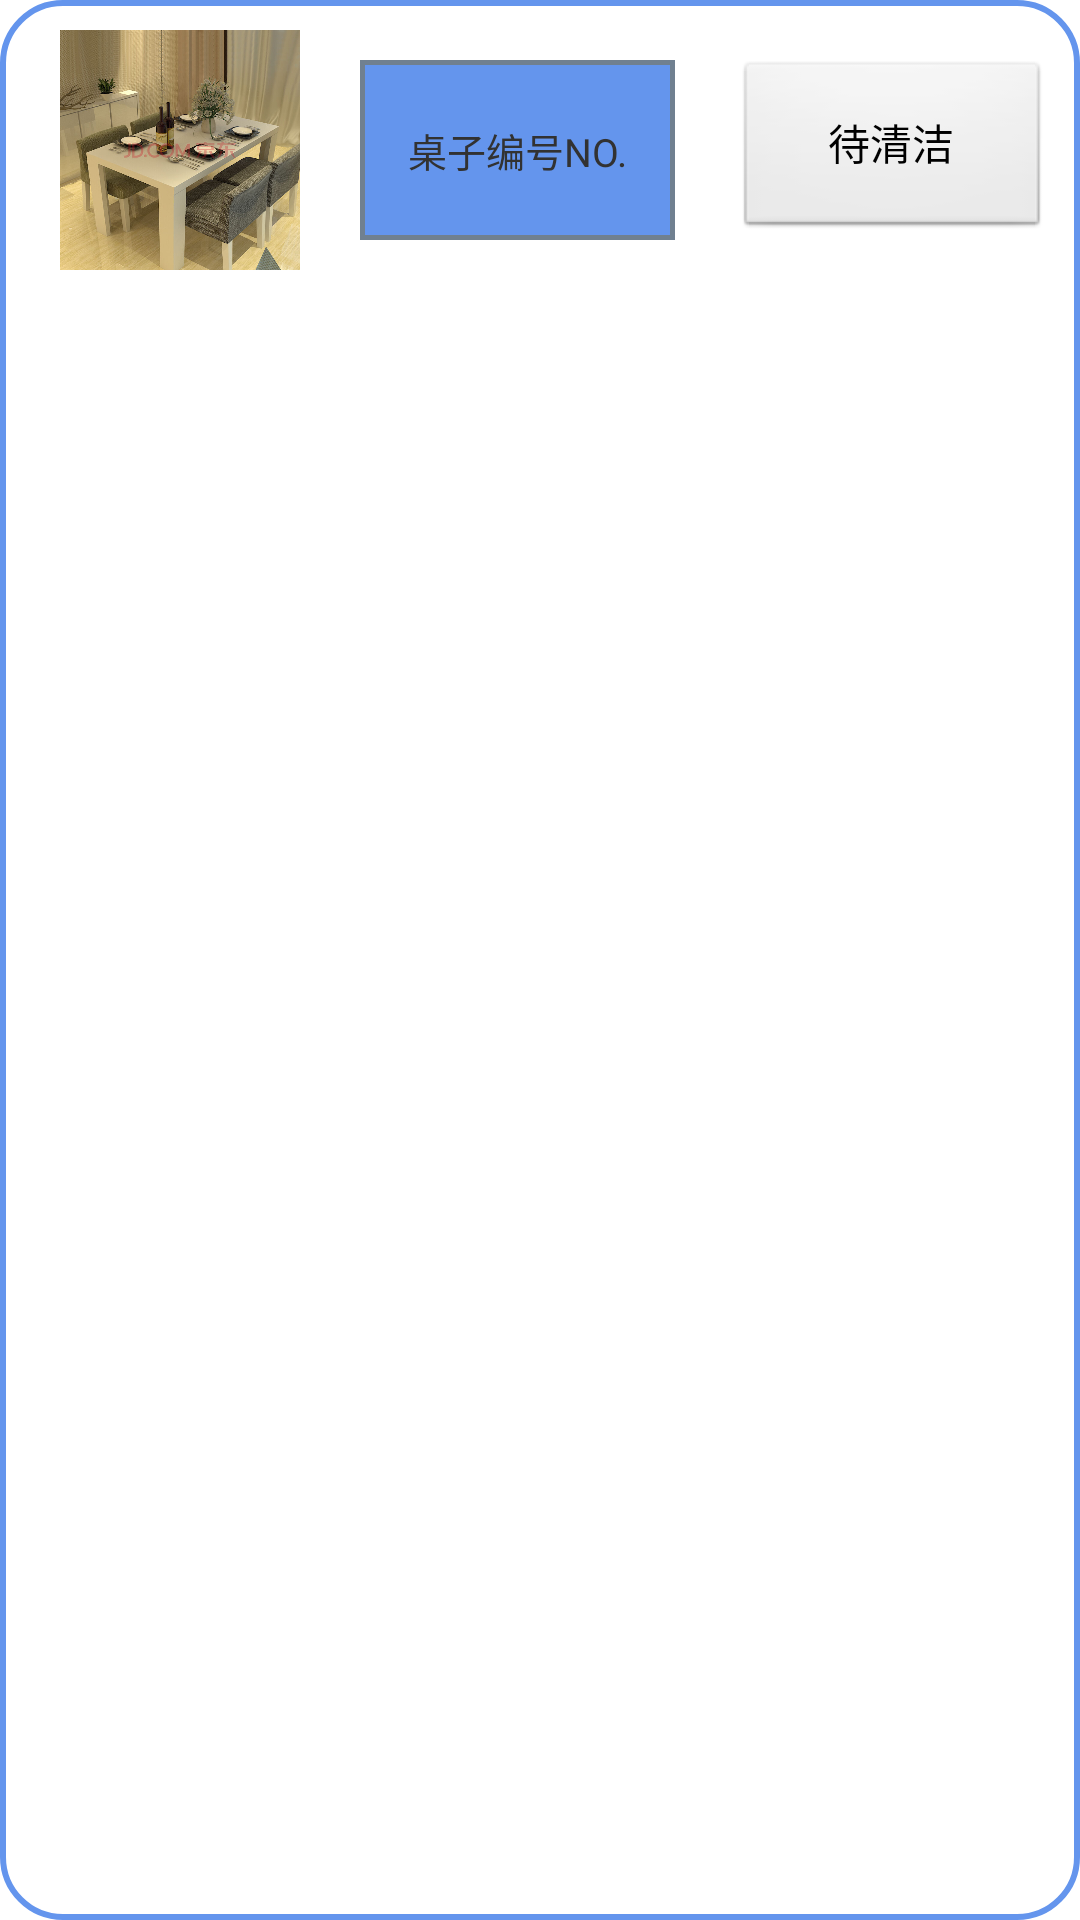

Icon click points for this 1080 × 1920 phone screenshot, format [x,y]:
table: [180,150]
